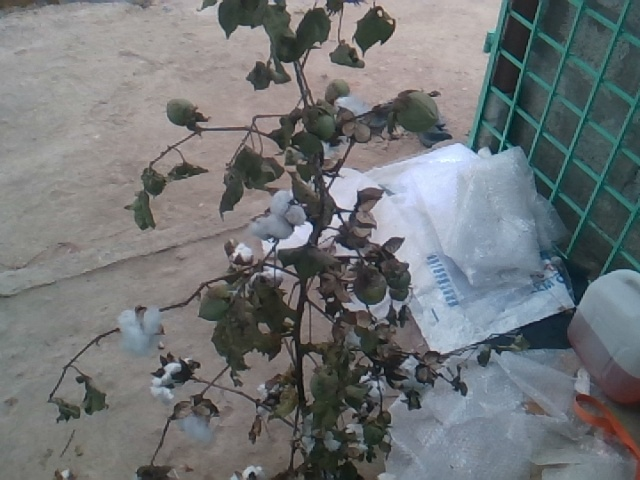cotton: (117, 306, 161, 356), (255, 195, 302, 235)
